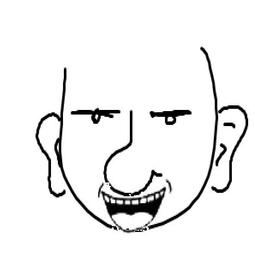large_ear: (28, 107, 69, 201), (209, 102, 249, 196)
large_nose: (97, 105, 172, 197)
open_mouth: (99, 190, 170, 233)
small_eye: (142, 100, 193, 127), (71, 108, 121, 122)
